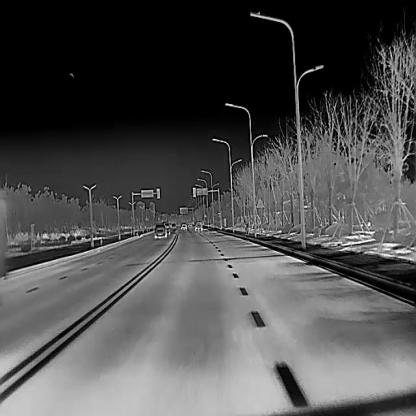car: (154, 222, 166, 237), (163, 222, 170, 235), (194, 220, 202, 231), (180, 222, 186, 230), (171, 222, 176, 229)
